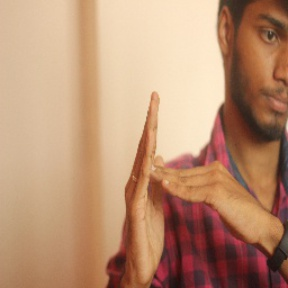Z: (118, 90, 257, 274)
